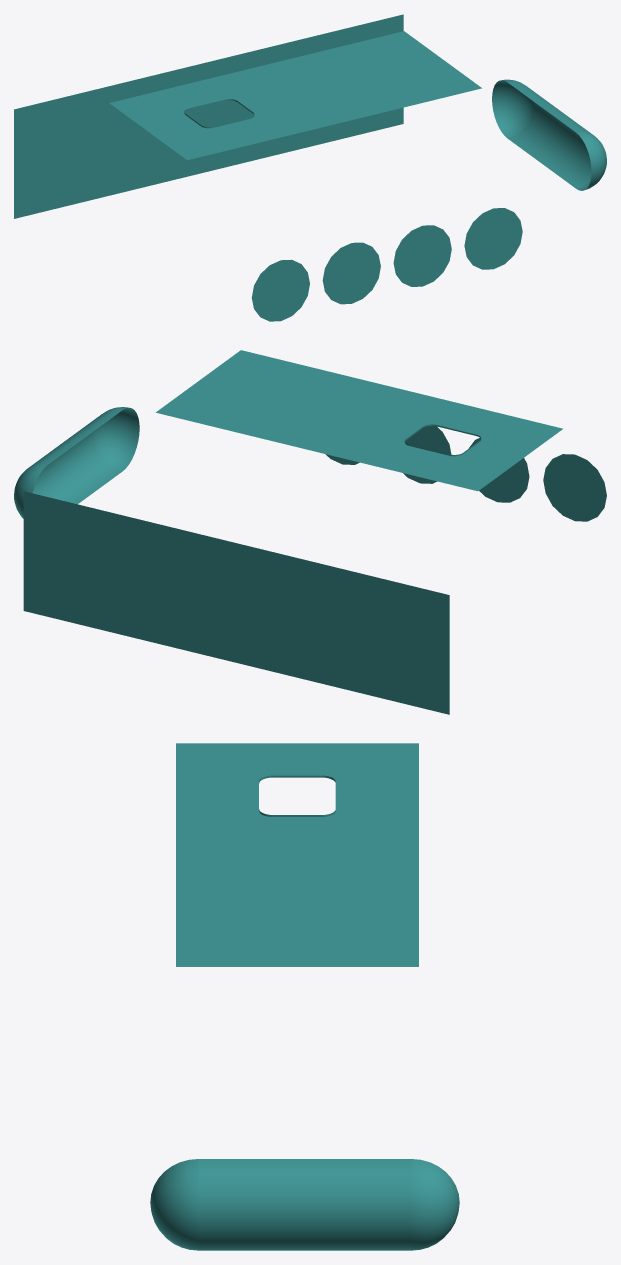
The model's file is vitres.FBX.
3 views of the same model, one above another, from view 1: azimuth 30°, elevation 25°; view 2: azimuth 150°, elevation 25°; view 3: azimuth 270°, elevation 25° (orthographic). The views are drawn at different scales.
Visible parts, largest first — view 1: vitres_hublots; view 2: vitres_hublots; view 3: vitres_hublots.
Boxes of the visible parts, <box> form: vitres_hublots: <box>14,14,606,321</box>; vitres_hublots: <box>14,350,606,714</box>; vitres_hublots: <box>150,743,459,1250</box>.
Bounding box in the file's own units: 906 × 290 × 655.
